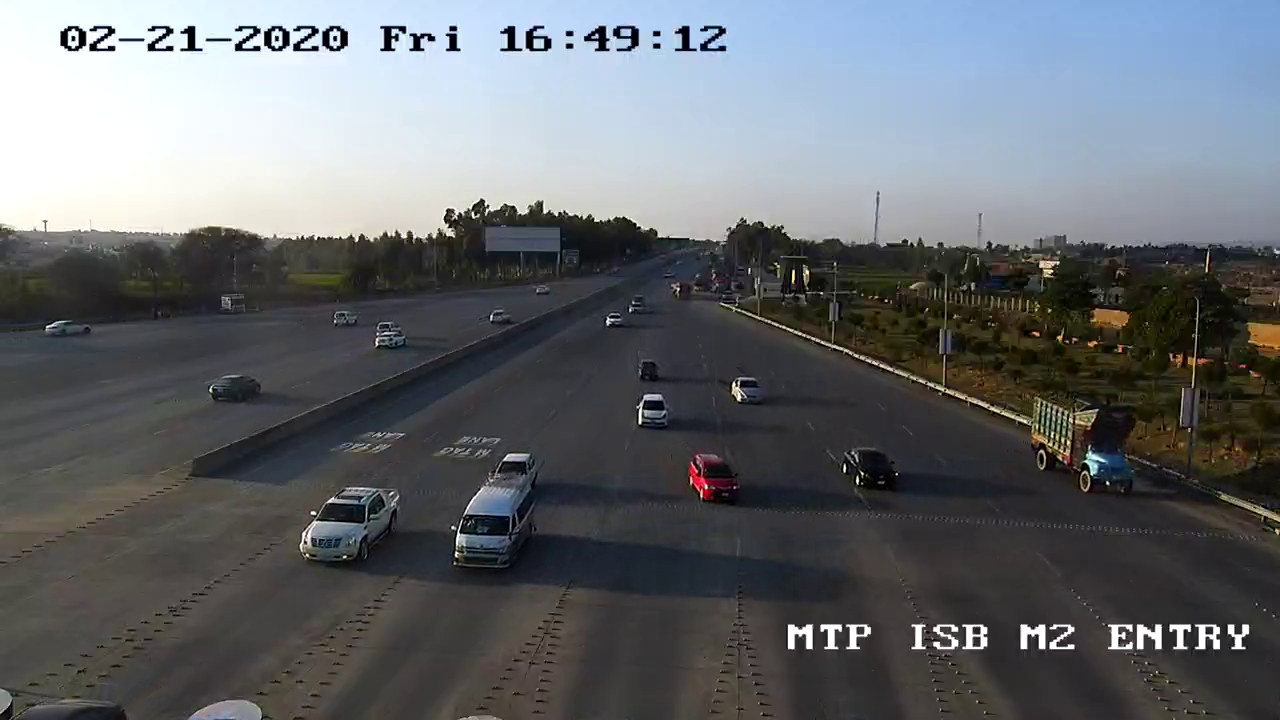f1: (291, 472, 406, 578), (674, 441, 752, 512), (831, 437, 906, 500), (626, 389, 679, 432), (726, 372, 772, 411)
f2: (446, 474, 545, 580)
f5: (1023, 372, 1149, 506)
